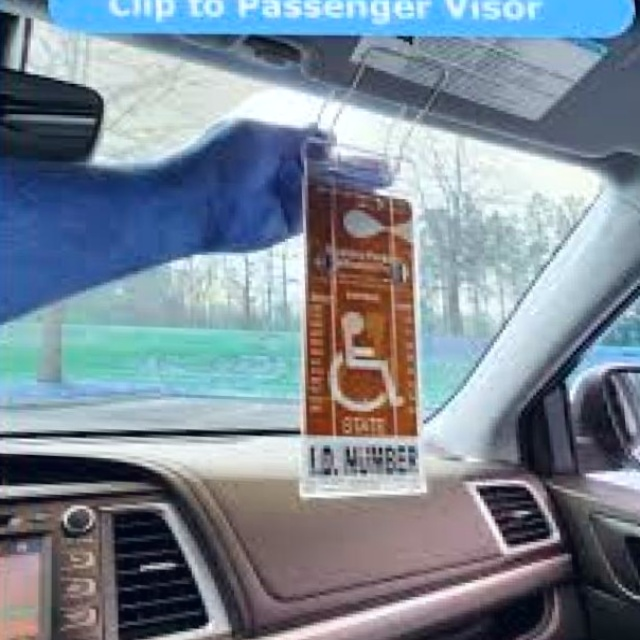ISA: (323, 305, 407, 416)
